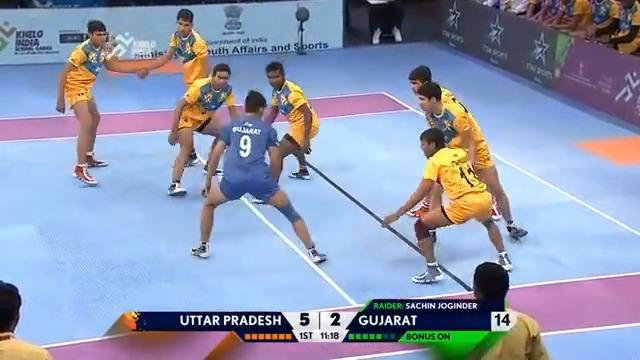Player: (407, 66, 528, 242), (380, 127, 513, 283), (55, 19, 148, 186), (136, 8, 210, 167), (166, 62, 239, 197), (261, 60, 320, 183), (0, 279, 53, 359)
Raider: (190, 89, 327, 265)
referee: (414, 260, 550, 359)
